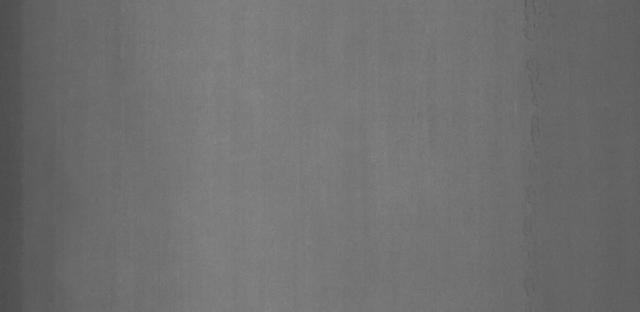silk_spot: (502, 18, 570, 290)
